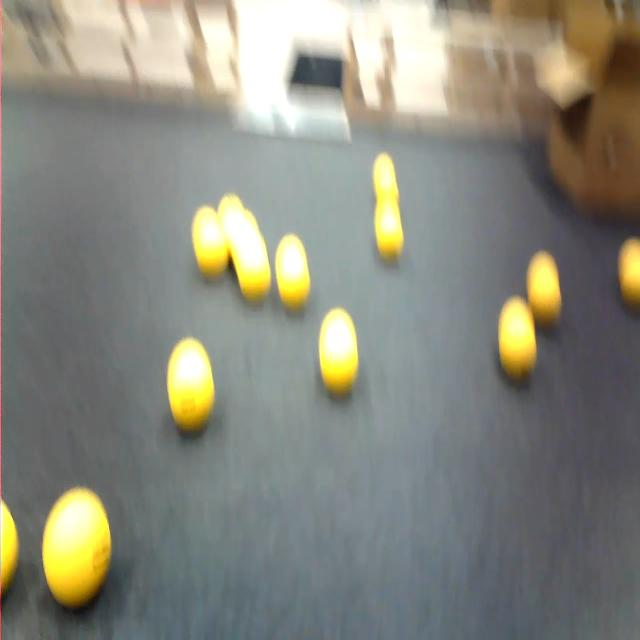fuel: (42, 488, 111, 608), (167, 338, 214, 431), (319, 309, 358, 395), (232, 218, 271, 303), (499, 297, 536, 380), (275, 235, 310, 311), (192, 207, 228, 277), (527, 252, 561, 326), (375, 200, 403, 261), (0, 501, 18, 595), (618, 238, 639, 309), (373, 153, 399, 200), (218, 194, 243, 217), (243, 208, 259, 229)
